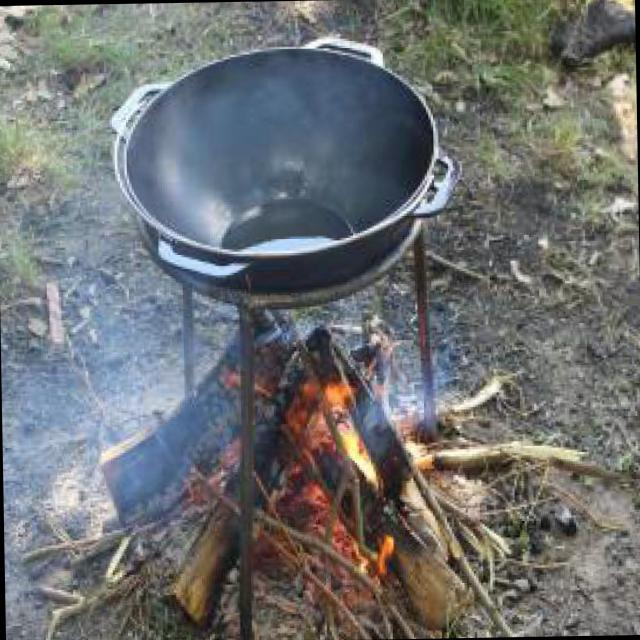fire: (324, 372, 386, 502), (345, 526, 404, 588)
